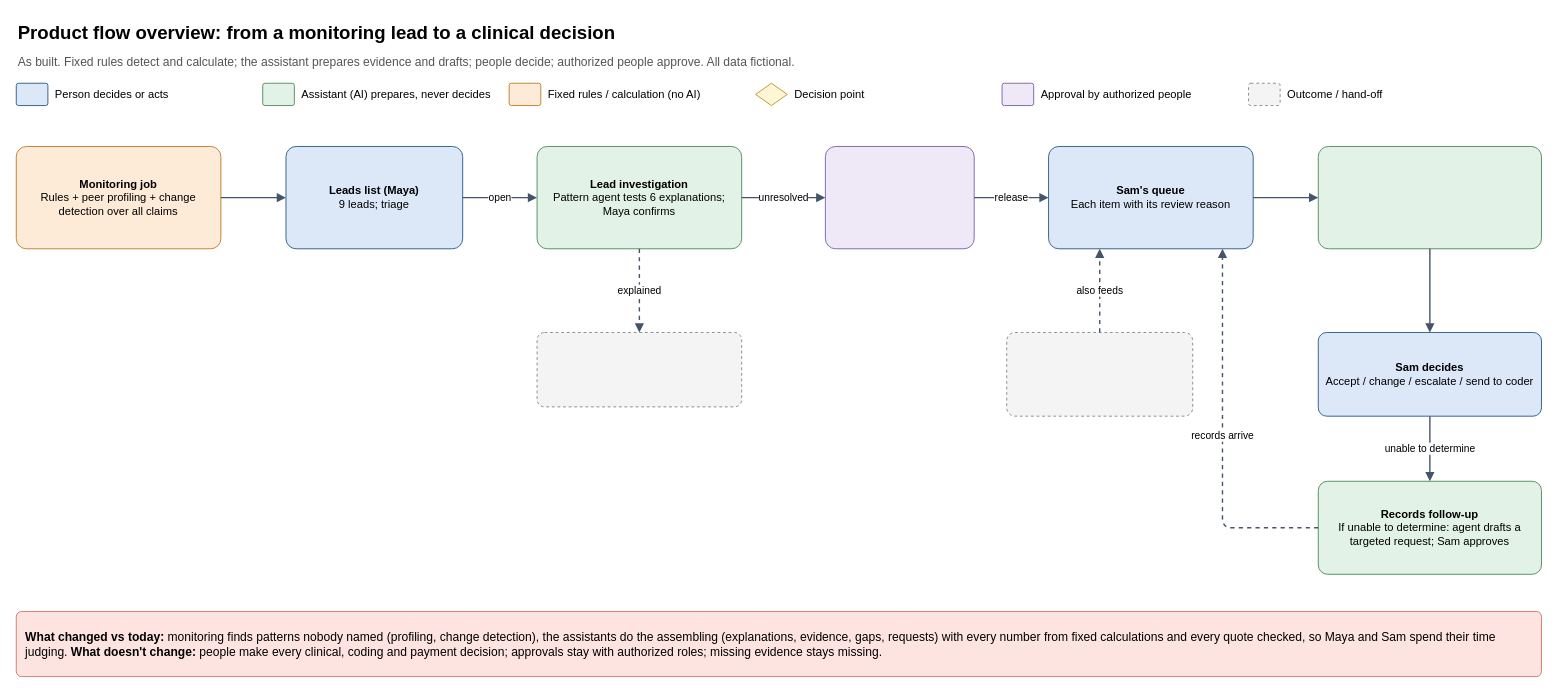
This 1558x693 diagram has some shape labels left out. Each missing label, with the box of its shape:
Approve sample 20 stays: (824, 146, 974, 249)
Claim review Upload records → agent builds evidence board → plain-language draft: (1317, 146, 1541, 249)
Close lead Explained by the evidence: (536, 332, 742, 407)
Routine selection Pre-payment rules, data-mining rules, QA, appeals: (1006, 332, 1193, 416)
